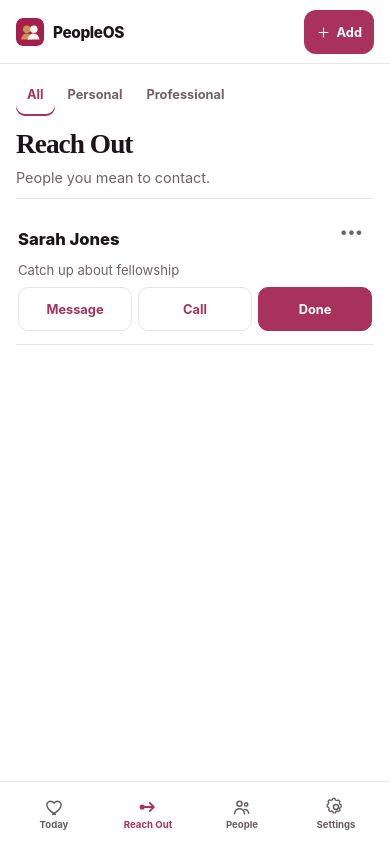
Scenario: V1-08 Reach Out UI › shows only the note and contact actions, then Done removes the item but retains the Person
Expected: the text "Catch up about fellowship" is shown, [18, 262, 179, 278]
Expected: the button "Message" is shown, [18, 287, 132, 331]
What coordinates should you click on to do the following:
click the button "Done"
I would click on:
 (315, 309)
Its box is [258, 287, 372, 331].
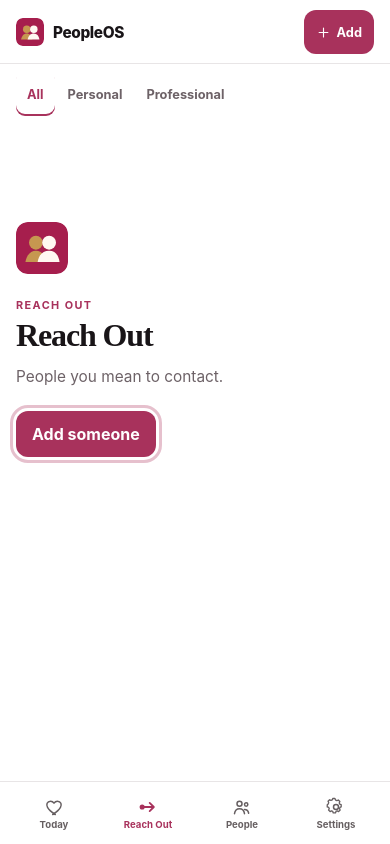
Now the button "Sarah Jones" is gone
Now the heading "Reach Out" is shown, box [16, 316, 153, 352]
